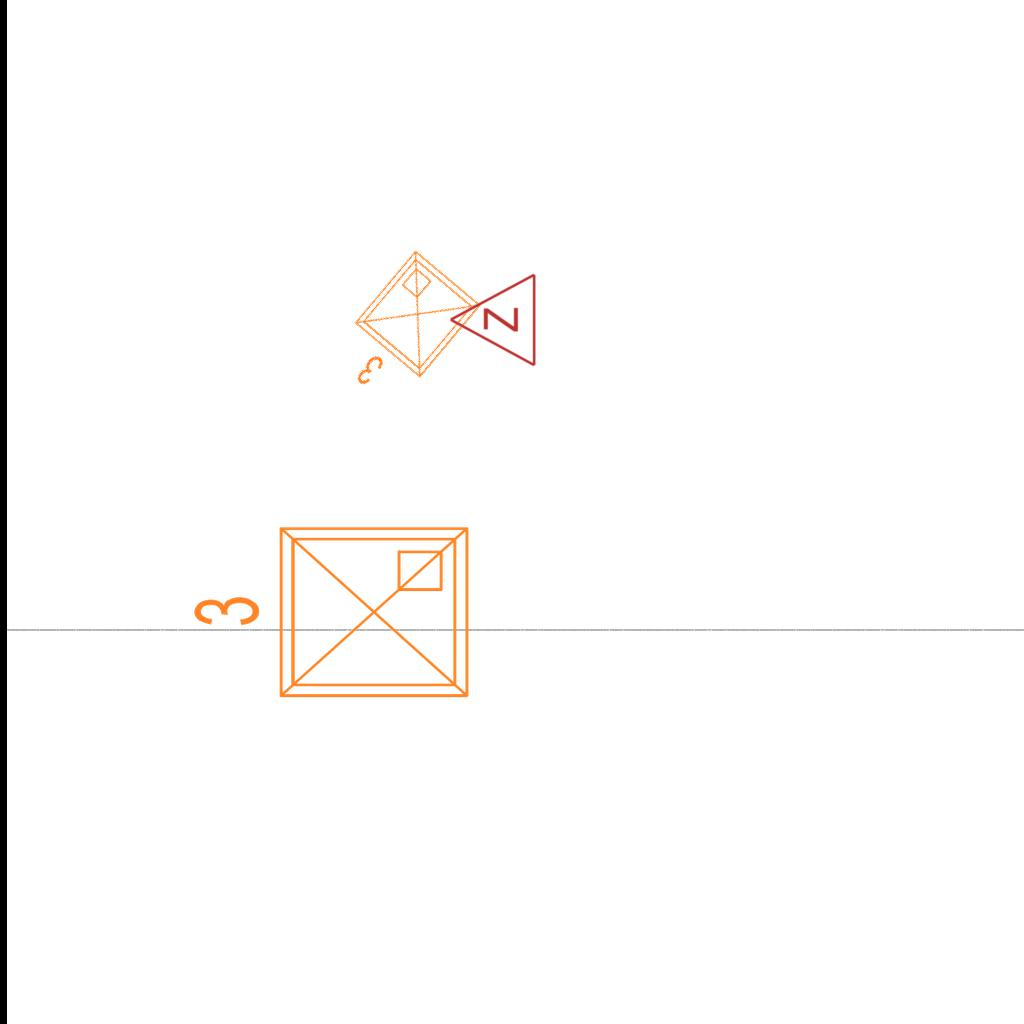Einbaudownlights_LED_Konferenzraeume: (183, 512, 483, 720), (317, 240, 495, 422)
Zimmersignalleuchte: (443, 272, 543, 370)
